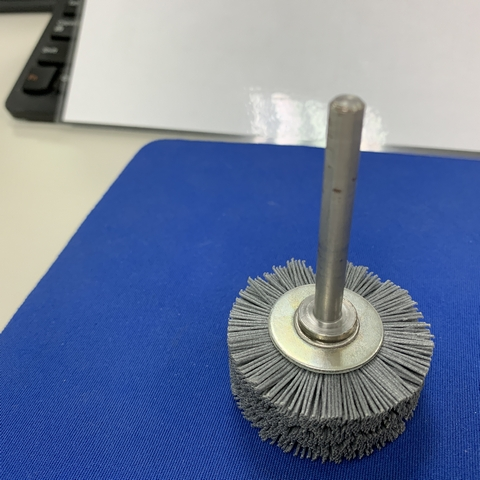Wheel Brush: (204, 102, 426, 462), (225, 83, 428, 462), (232, 93, 431, 454), (197, 200, 466, 463)
